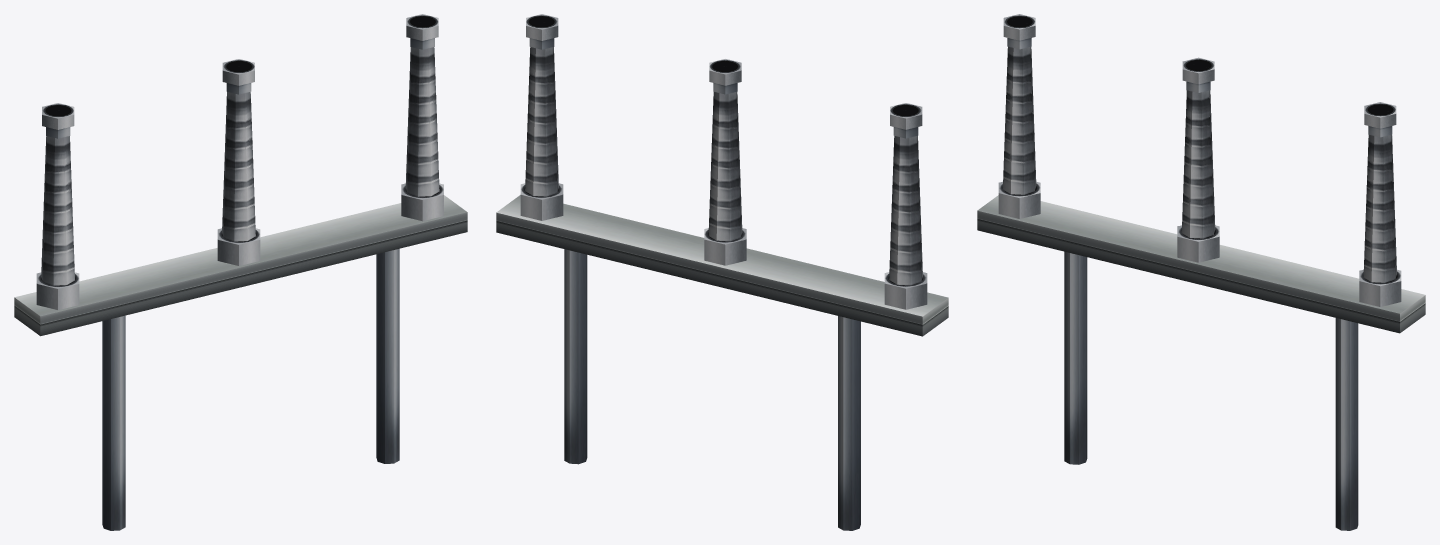
File: substation_ht_1005_10.obj
3 views of the same model, side by side, from view 1: azimuth 30°, elevation 25°; view 2: azimuth 150°, elevation 25°; view 3: azimuth 330°, elevation 25° (orthographic).
Visible parts, largest first — view 1: substation_ht_1005_10; view 2: substation_ht_1005_10; view 3: substation_ht_1005_10.
Boxes of the visible parts, bbox=[...] form: substation_ht_1005_10: bbox=[14, 14, 467, 530]; substation_ht_1005_10: bbox=[496, 14, 948, 530]; substation_ht_1005_10: bbox=[977, 14, 1425, 530].
Size of the model in its own units: 28.61 by 27.48 by 3.02.
1 material, 1 textured.
